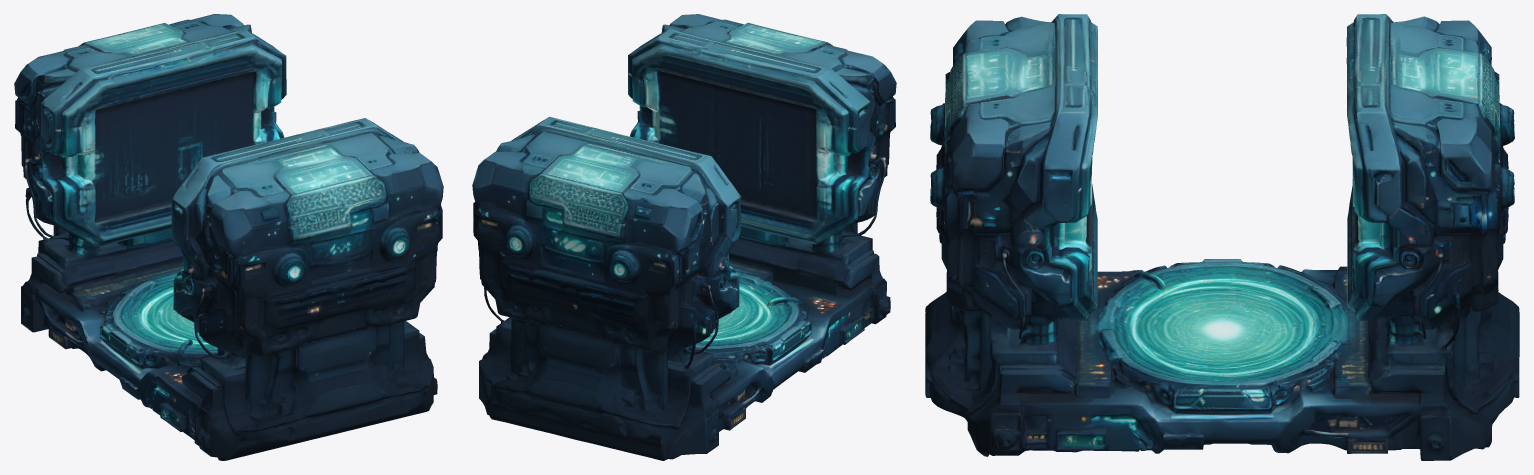
Rendered from newstone.fbx.
The picture shows the model from 3 angles, left to right: view 1: azimuth 30°, elevation 25°; view 2: azimuth 150°, elevation 25°; view 3: azimuth 270°, elevation 25°; orthographic projection. The views are drawn at different scales.
Parts seen in each view (by area): view 1: tripo_node_370dd938; view 2: tripo_node_370dd938; view 3: tripo_node_370dd938.
Part boxes in pixels (bbox=[...]): tripo_node_370dd938: bbox=[14, 14, 443, 460]; tripo_node_370dd938: bbox=[472, 14, 896, 460]; tripo_node_370dd938: bbox=[925, 14, 1519, 460].
Bounding box in the file's own units: 0.572 × 0.6167 × 1.
1 material, 1 textured.
